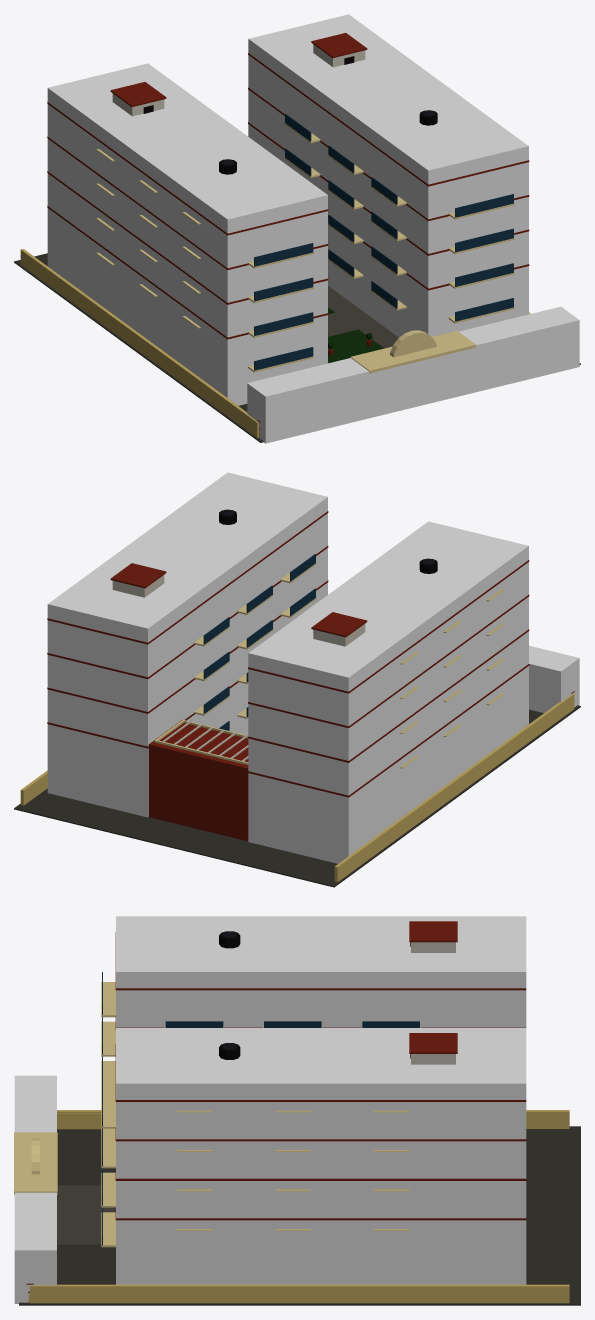
Rendered from B08_gated_block.glb.
3 views of the same model, one above another, from view 1: azimuth 30°, elevation 25°; view 2: azimuth 150°, elevation 25°; view 3: azimuth 270°, elevation 25° (orthographic). The views are drawn at different scales.
Parts seen in each view (by area): view 1: COL_Main, COL_EastWing, LOD0, COL_Compound; view 2: COL_Main, COL_EastWing, LOD0, COL_Compound; view 3: COL_EastWing, LOD0, COL_Main, COL_Compound.
Boxes of the visible parts, left/top/right/bottom form: COL_Main: left=47, top=63, right=327, bottom=405; COL_EastWing: left=248, top=14, right=528, bottom=337; LOD0: left=14, top=33, right=580, bottom=442; COL_Compound: left=247, top=306, right=579, bottom=443; COL_Main: left=248, top=521, right=528, bottom=863; COL_EastWing: left=47, top=472, right=327, bottom=817; LOD0: left=14, top=509, right=580, bottom=887; COL_Compound: left=529, top=645, right=579, bottom=712; COL_EastWing: left=116, top=1028, right=526, bottom=1284; LOD0: left=14, top=921, right=580, bottom=1305; COL_Main: left=116, top=916, right=526, bottom=1027; COL_Compound: left=14, top=1075, right=56, bottom=1303.
Size of what is drawn, in the model's own units: 30 by 18.04 by 40.35.
